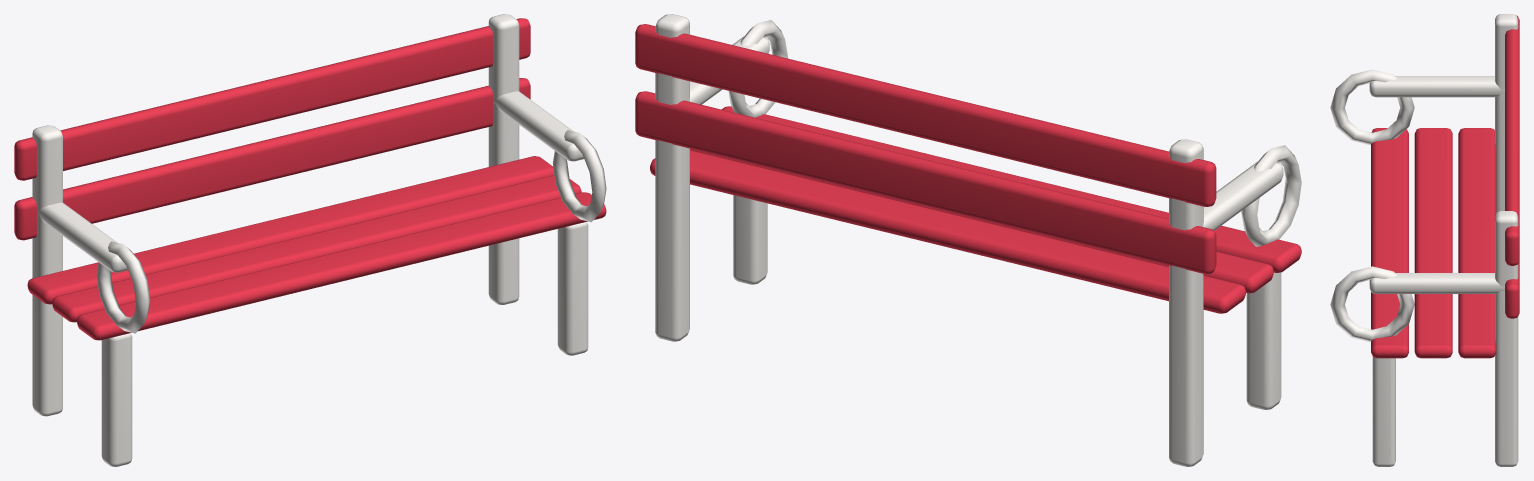
File: sky_bench.glb
3 renders of one model, left to right at view 1: azimuth 30°, elevation 25°; view 2: azimuth 150°, elevation 25°; view 3: azimuth 270°, elevation 25°, orthographic. The views are drawn at different scales.
Parts seen in each view (by area): view 1: Bench; view 2: Bench; view 3: Bench.
Boxes of the visible parts, x1,y1,x2,y2 form: Bench: [14, 14, 606, 466]; Bench: [635, 14, 1301, 466]; Bench: [1330, 14, 1519, 466].
Size of the model in its own units: 1.8 by 0.95 by 0.65.
